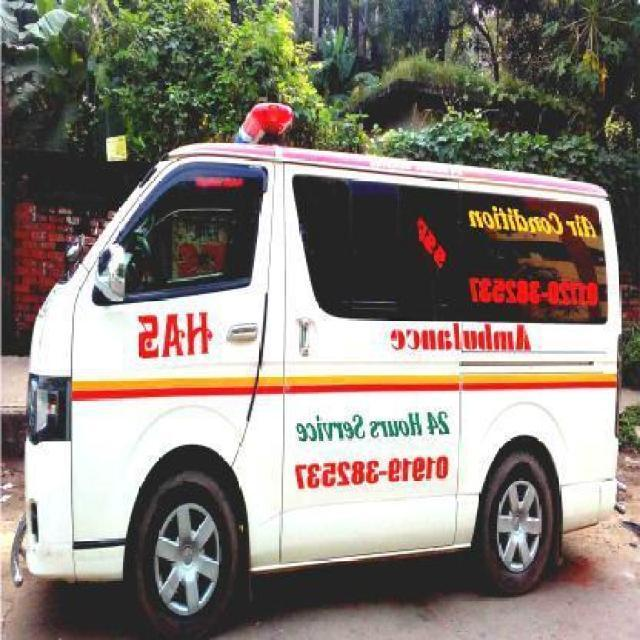emergency: (9, 101, 623, 639)
